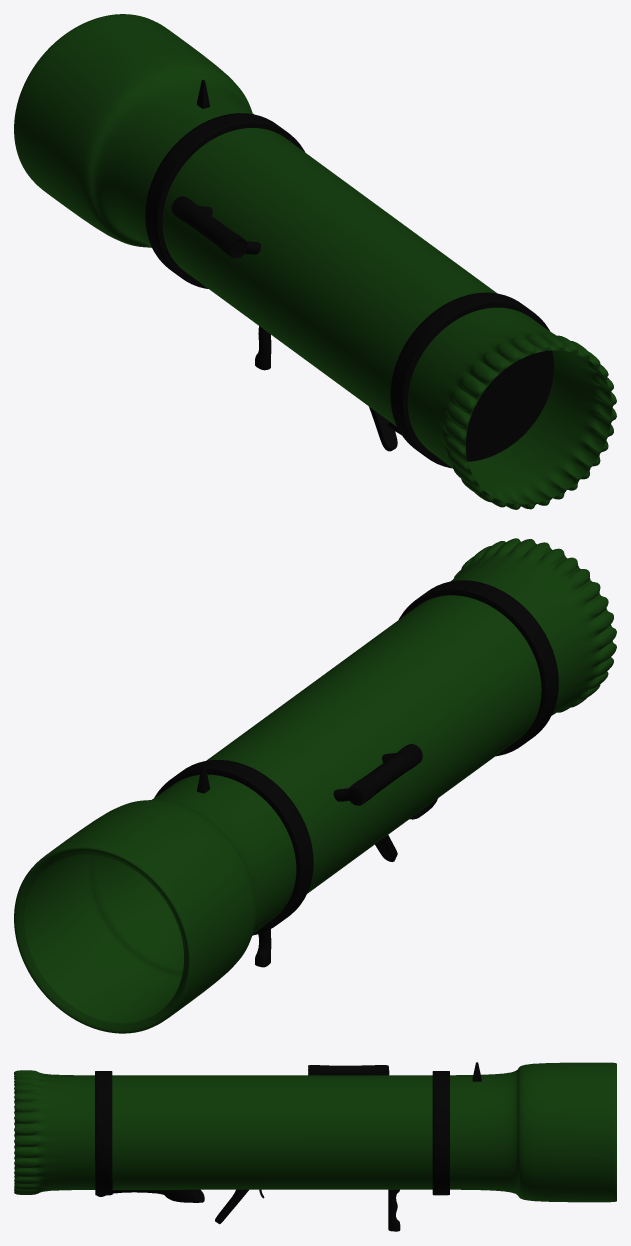
Rendered from Bazooka.glb.
The picture shows the model from 3 angles, top to bottom: view 1: azimuth 30°, elevation 25°; view 2: azimuth 150°, elevation 25°; view 3: azimuth 270°, elevation 25°; orthographic projection. The views are drawn at different scales.
Parts seen in each view (by area): view 1: Cylinder, Cylinder.003, Cylinder.002, Cube.004; view 2: Cylinder, Cylinder.003, Cylinder.002, Cube.004; view 3: Cylinder, Cylinder.002, Cylinder.003, Cube.004, Cube, Cube.002, Cube.001.
Boxes of the visible parts, x1=… form: Cylinder: x1=14, y1=14, x2=616, y2=509; Cylinder.003: x1=390, y1=292, x2=553, y2=468; Cylinder.002: x1=145, y1=113, x2=304, y2=288; Cube.004: x1=171, y1=196, x2=261, y2=258; Cylinder: x1=14, y1=538, x2=616, y2=1033; Cylinder.003: x1=398, y1=580, x2=558, y2=756; Cylinder.002: x1=154, y1=760, x2=313, y2=935; Cube.004: x1=346, y1=744, x2=422, y2=805; Cylinder: x1=14, y1=1062, x2=616, y2=1202; Cylinder.002: x1=432, y1=1071, x2=449, y2=1195; Cylinder.003: x1=95, y1=1071, x2=112, y2=1195; Cube.004: x1=308, y1=1065, x2=389, y2=1075; Cube: x1=97, y1=1189, x2=204, y2=1202; Cube.002: x1=388, y1=1189, x2=400, y2=1231; Cube.001: x1=215, y1=1189, x2=264, y2=1224.
Bounding box in the file's own units: 1.42 × 1.76 × 5.76.
